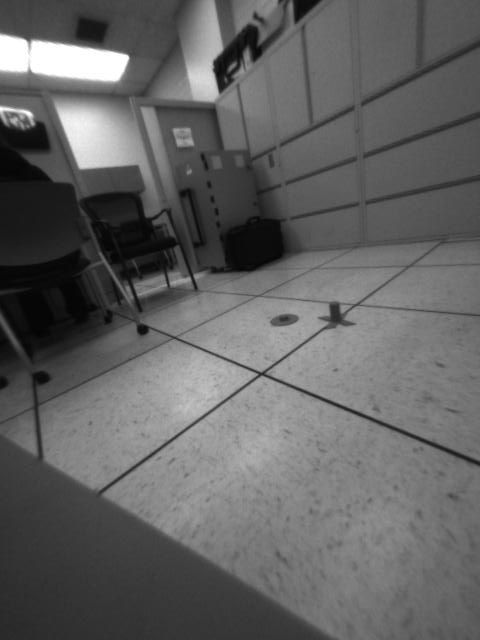X: (316, 301, 357, 332)
